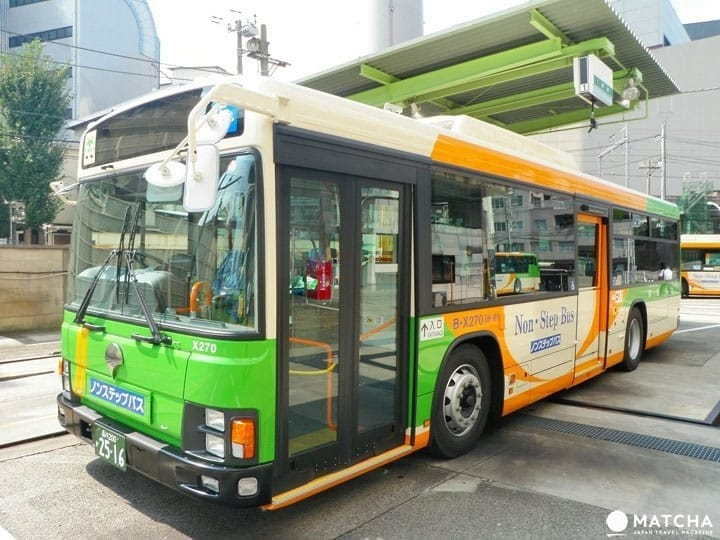bus: (62, 65, 680, 513), (673, 217, 720, 309)
